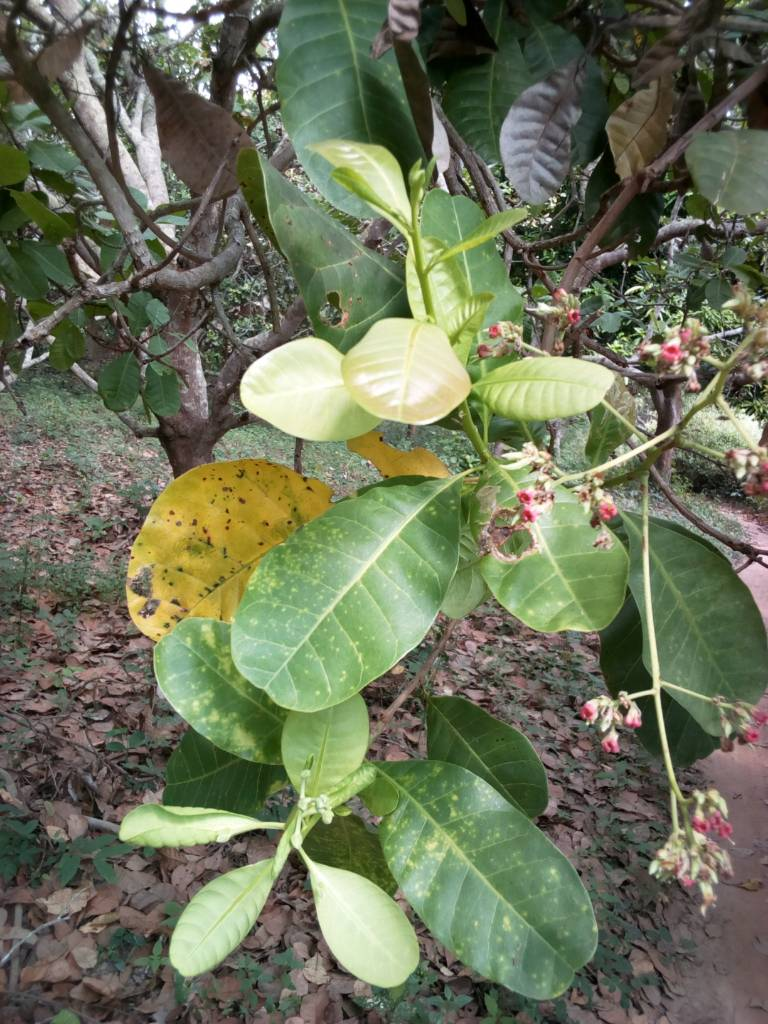Alternariose: (232, 467, 463, 710), (382, 771, 602, 1000), (125, 460, 340, 641), (154, 621, 293, 761)
